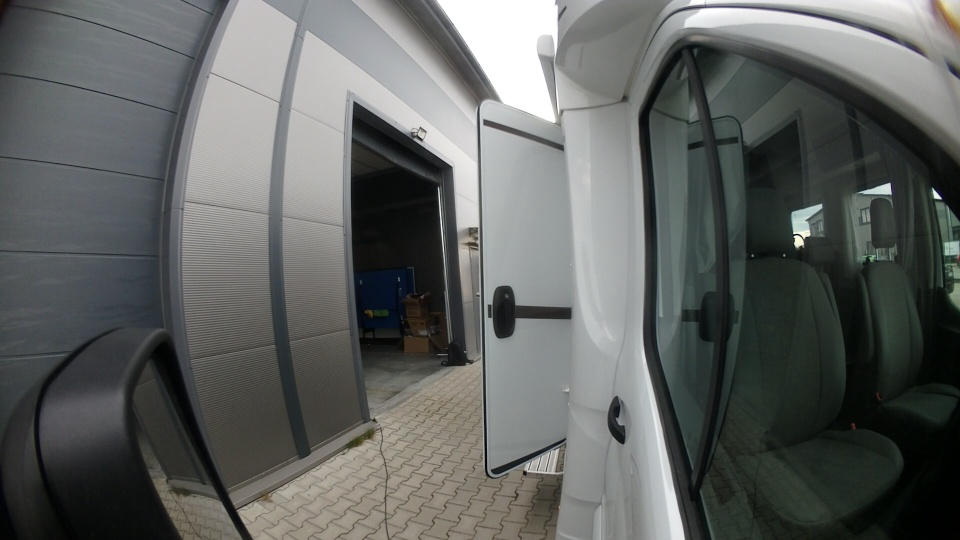door_front: (468, 93, 584, 489)
step_front: (518, 438, 575, 484)
